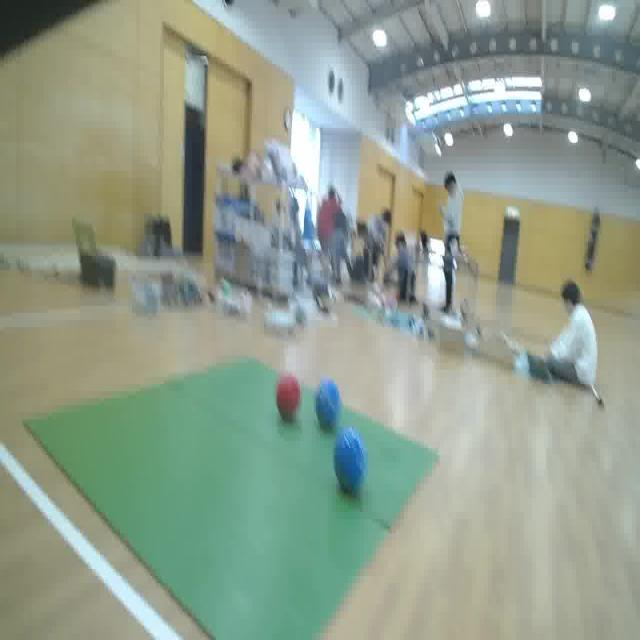blue_ball: (331, 424, 369, 500), (312, 373, 347, 434)
red_ball: (275, 372, 304, 427)
